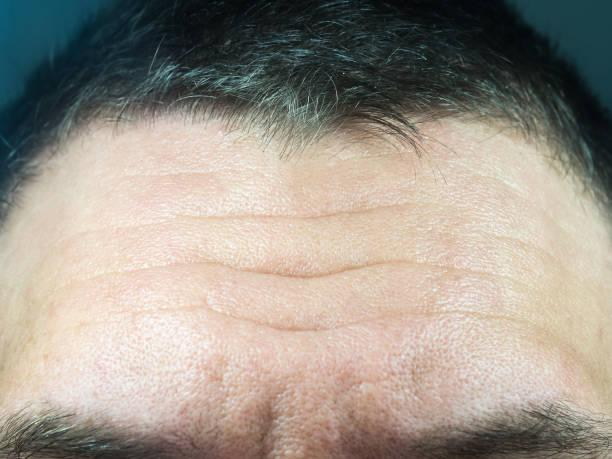Dry-Skin: (104, 159, 503, 393)
